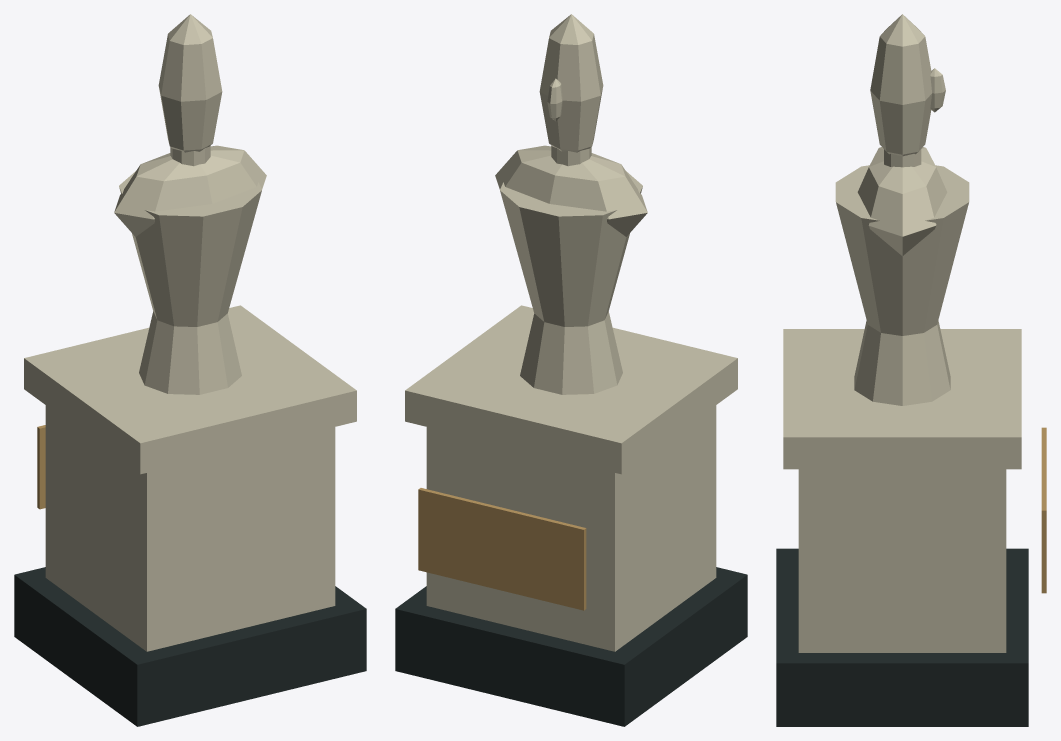
Rendered from LP_Egypt_CornerFeature.fbx.
The picture shows the model from 3 angles, left to right: view 1: azimuth 30°, elevation 25°; view 2: azimuth 150°, elevation 25°; view 3: azimuth 270°, elevation 25°; orthographic projection. The views are drawn at different scales.
Visible parts, largest first — view 1: M_Central_Limestone, Charcoal, AgedBrass; view 2: M_Central_Limestone, Charcoal, AgedBrass; view 3: M_Central_Limestone, Charcoal, AgedBrass.
Part boxes in pixels (x1,y1,x2,y2): M_Central_Limestone: [24, 14, 356, 651]; Charcoal: [14, 567, 366, 726]; AgedBrass: [37, 425, 45, 509]; M_Central_Limestone: [405, 14, 737, 651]; Charcoal: [395, 567, 747, 726]; AgedBrass: [418, 488, 586, 610]; M_Central_Limestone: [783, 14, 1021, 652]; Charcoal: [776, 548, 1028, 726]; AgedBrass: [1041, 427, 1046, 593].
Bounding box in the file's own units: 75 × 200 × 74.77.
